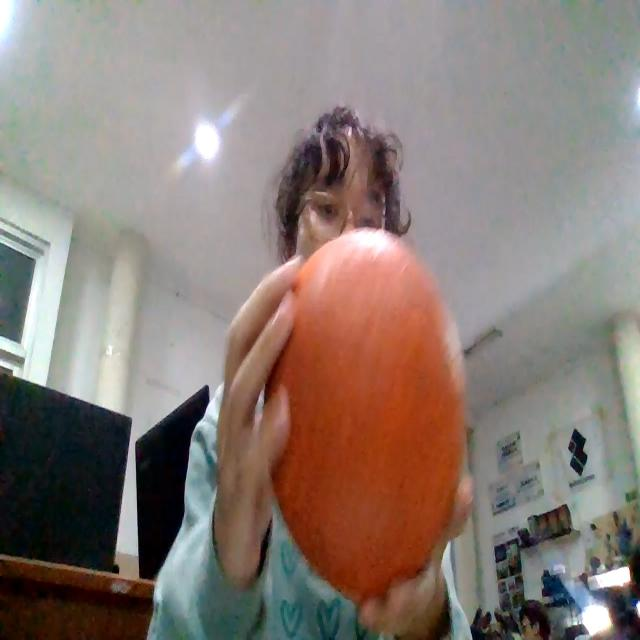ball: (264, 225, 468, 607)
